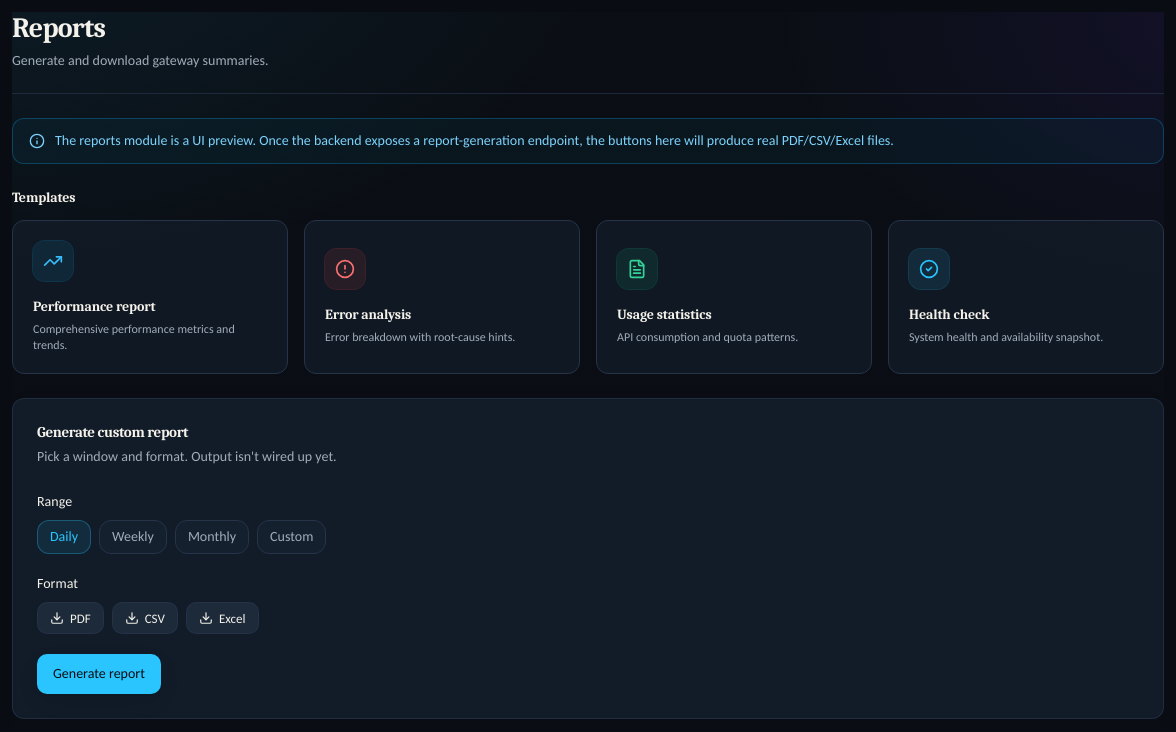
Test: Reports page › generate report uses the selected range
Click the button "weekly" at (133, 537), box [99,520,167,554]
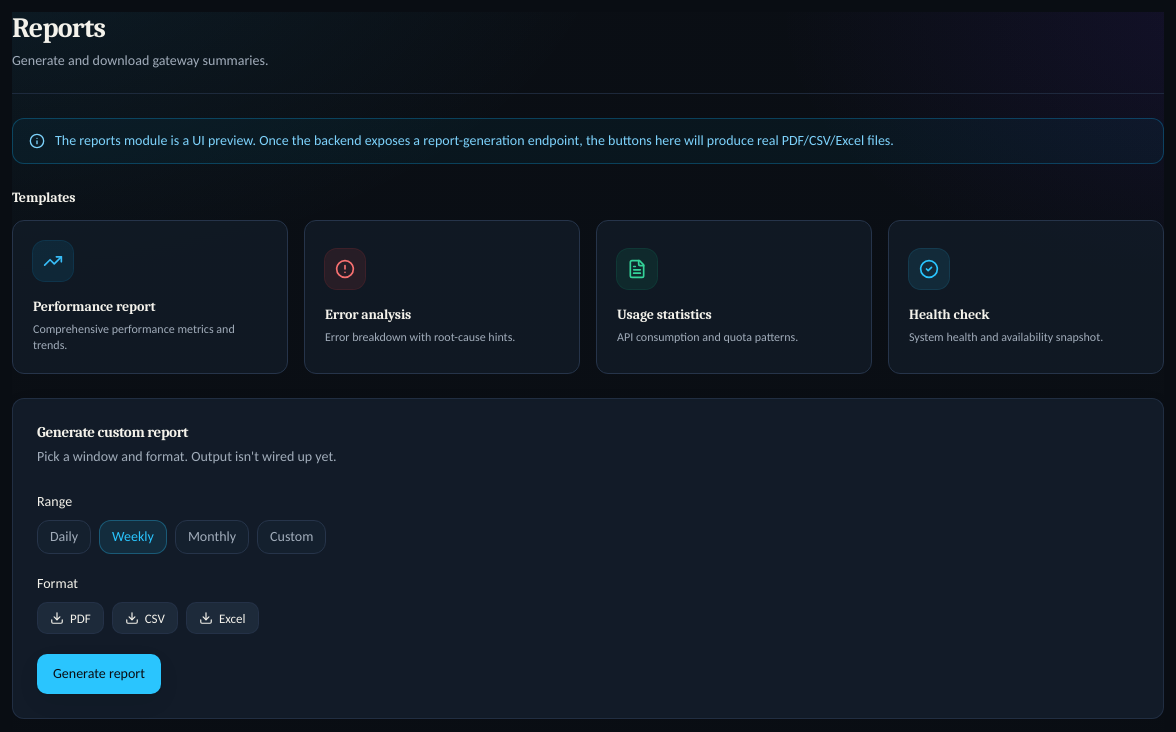
Click the button "Generate report" at (99, 674), box [37,654,161,694]
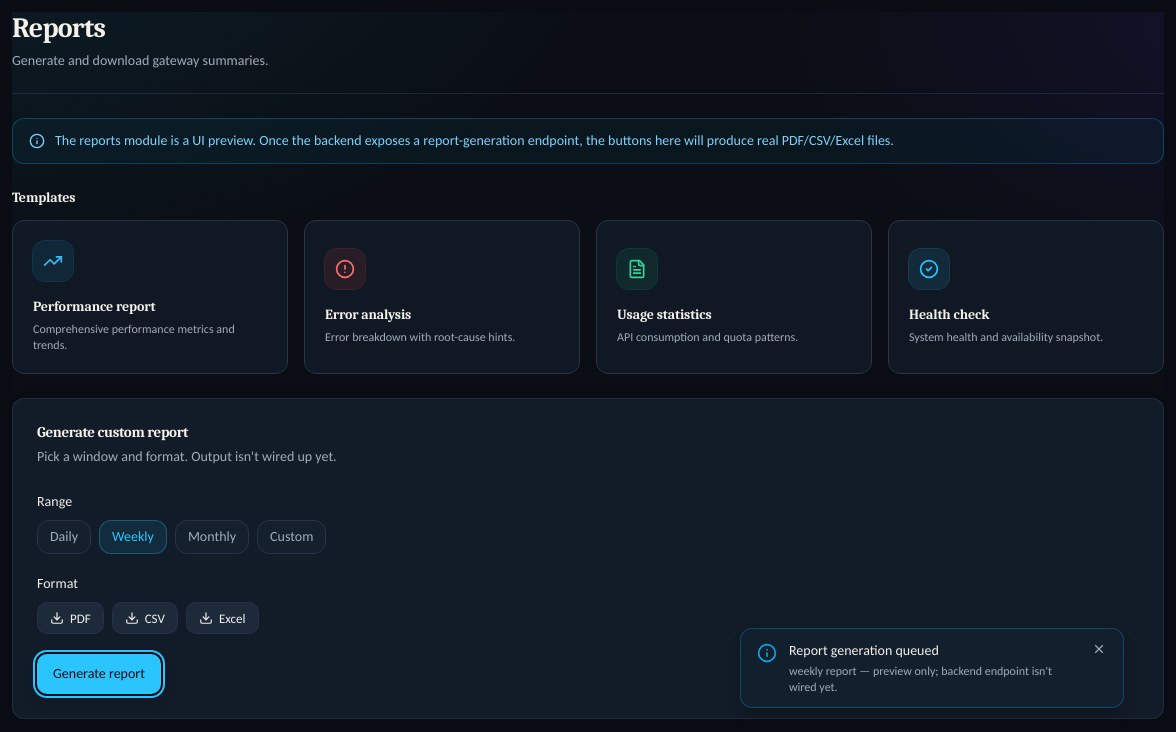
Expected: the text "weekly report" is shown, [789,664,1052,694]
